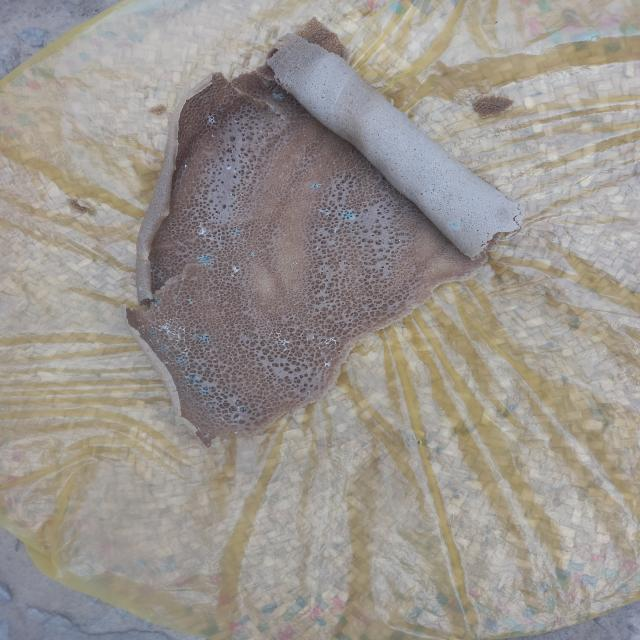injera_mold: (182, 372, 215, 397), (156, 321, 186, 342), (312, 334, 343, 354), (266, 330, 294, 352), (196, 252, 220, 270), (194, 222, 212, 240), (201, 111, 220, 128), (270, 89, 291, 102), (339, 206, 356, 222), (196, 332, 216, 343), (230, 264, 246, 277), (448, 220, 463, 232), (238, 404, 251, 416), (174, 354, 187, 366), (230, 412, 244, 423), (148, 296, 163, 306), (316, 207, 334, 215), (183, 296, 198, 305), (319, 360, 334, 369), (158, 342, 171, 352), (310, 181, 323, 191), (232, 228, 242, 237), (247, 251, 257, 259)
